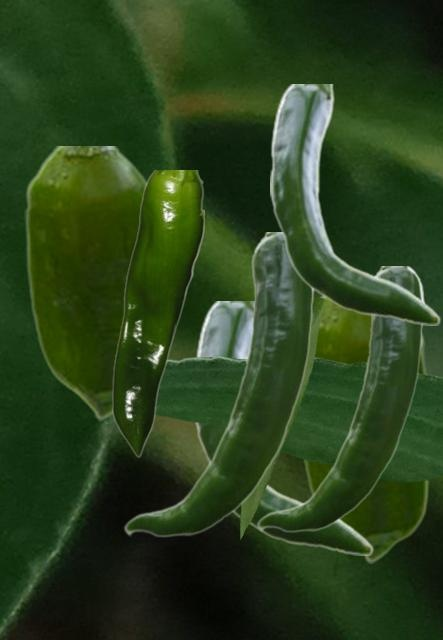green_chili: (123, 232, 315, 537), (194, 301, 373, 554), (256, 266, 424, 532), (270, 84, 440, 324), (299, 295, 428, 562), (24, 146, 147, 419), (111, 170, 203, 456)
